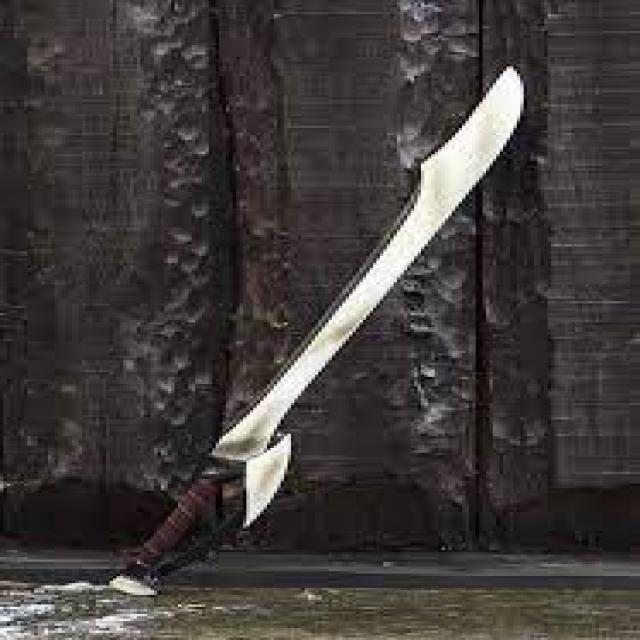long sword: (107, 60, 529, 588)
